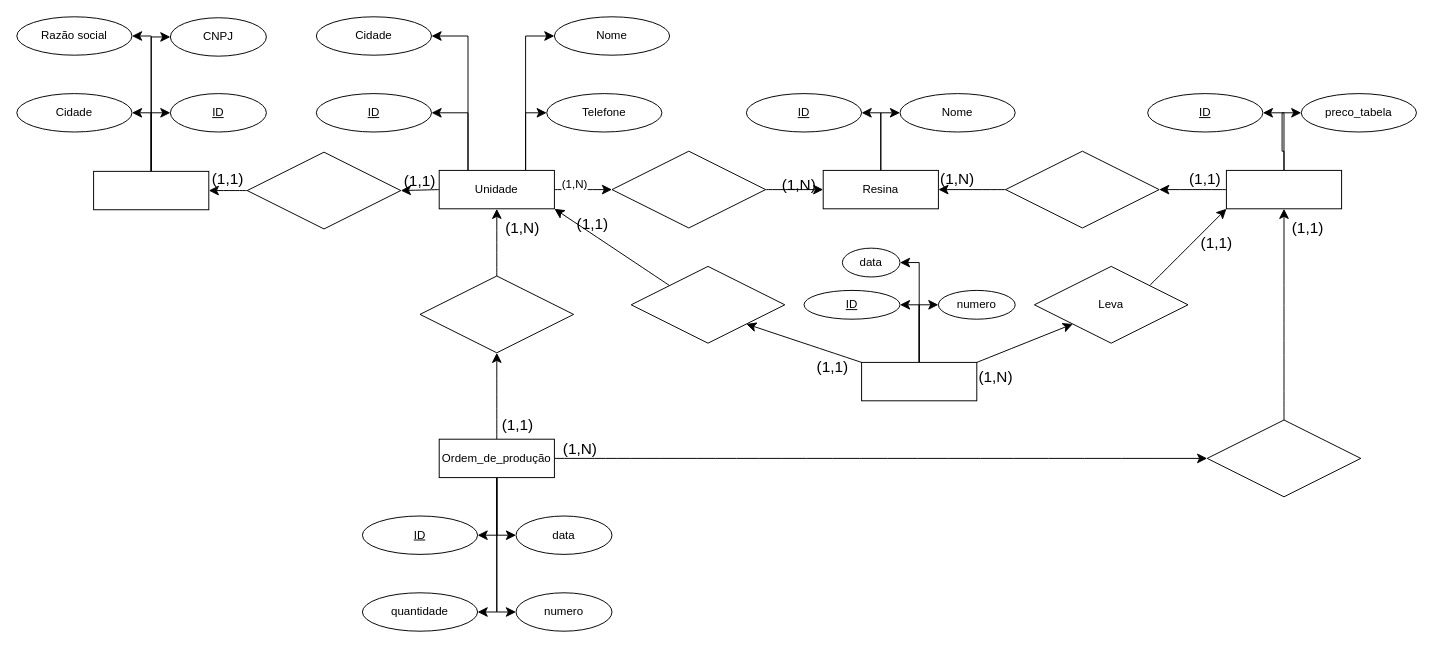
This 1433x648 diagram has some shape labels left out. The shapes that lost their labels are listed below. From the top down, each one's centre as x and y in pixels, then its label:
At point (151, 190): "Cliente".
At point (323, 190): "Vai".
At point (688, 189): "Guarda".
At point (1082, 189): "Feito".
At point (1283, 189): "Produtos".
At point (496, 314): "Pertence".
At point (707, 304): "Sai".
At point (919, 381): "Expedição".
At point (1283, 458): "Fabrica".
